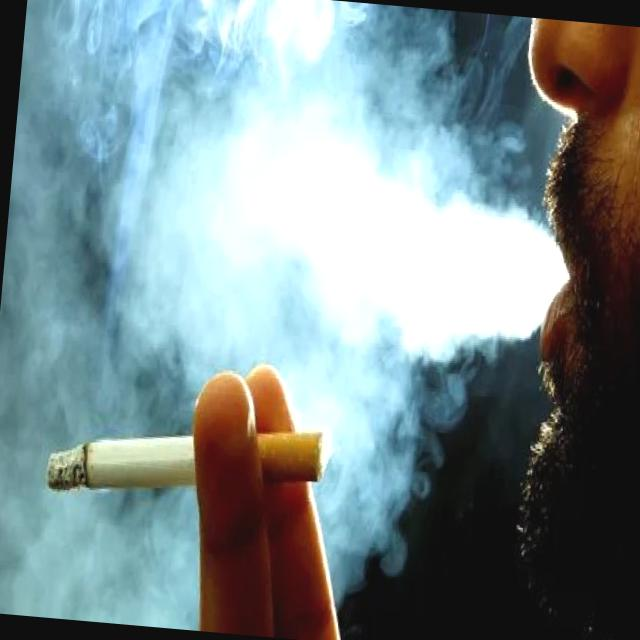cigarette: (42, 404, 332, 530)
